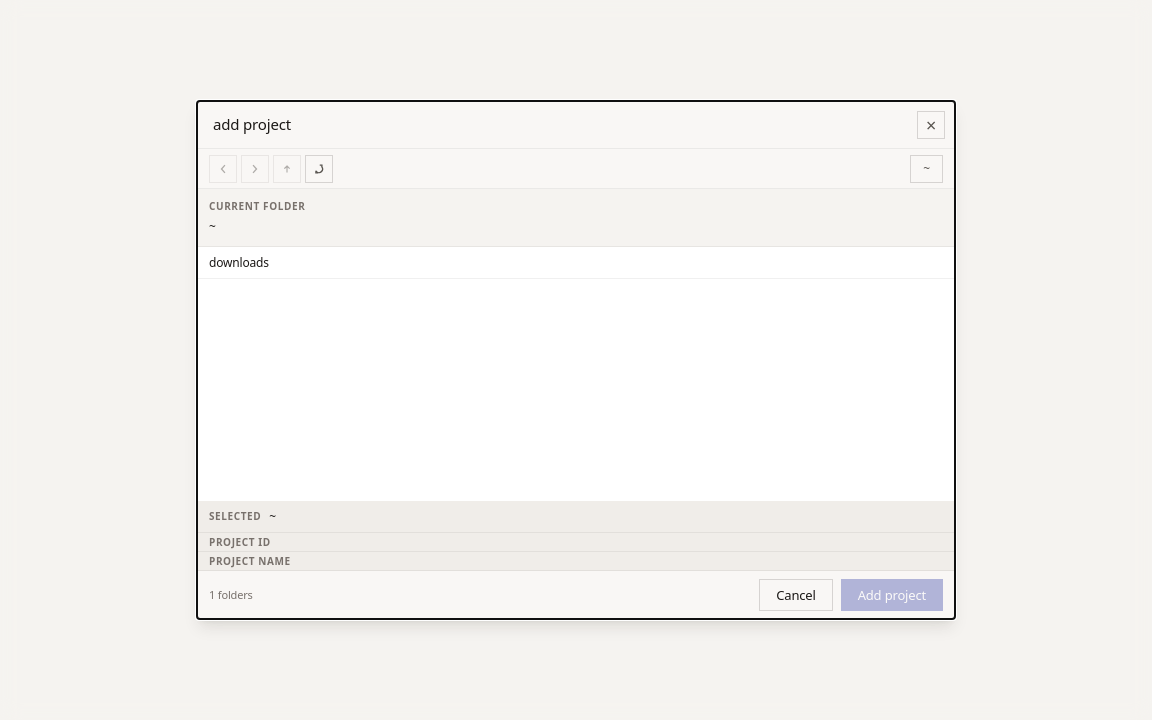
Test: AddProjectModal › blocks adding non-repo directories
Click the button "downloads": (239, 262) 197,247 -> 955,279
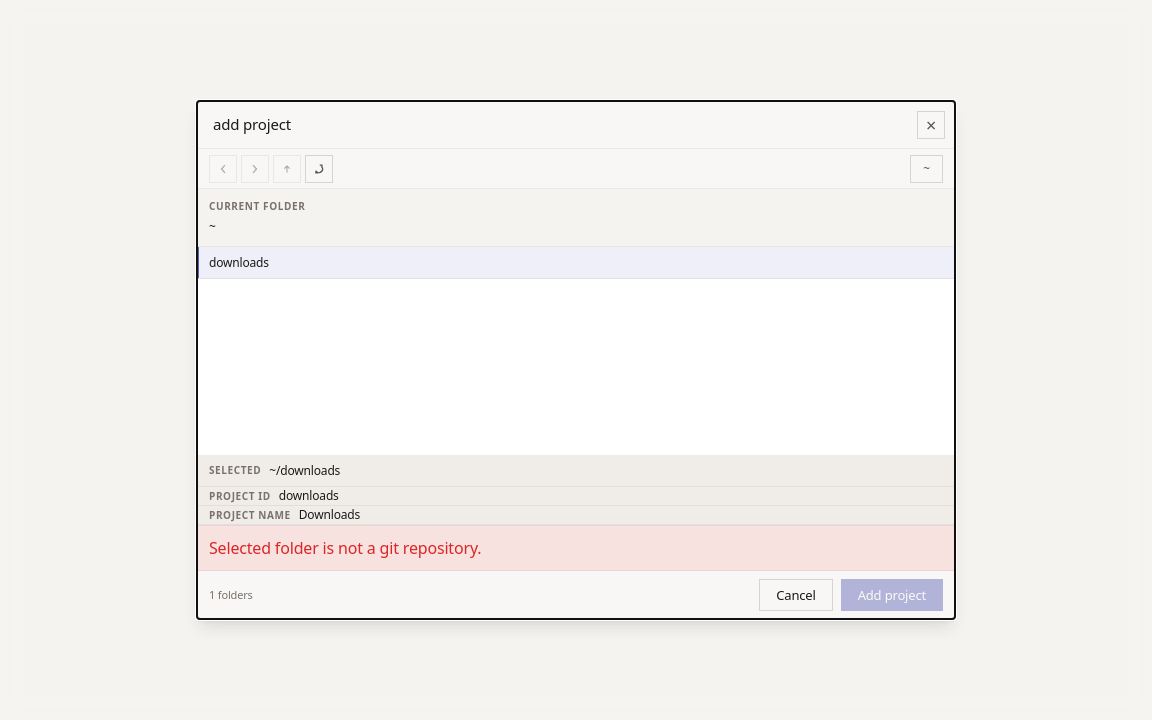
Expected: the button "Add project" is disabled, 841,579 -> 943,611
Now the text "Selected folder is not a git repository." is shown, box 197,525 -> 955,571
